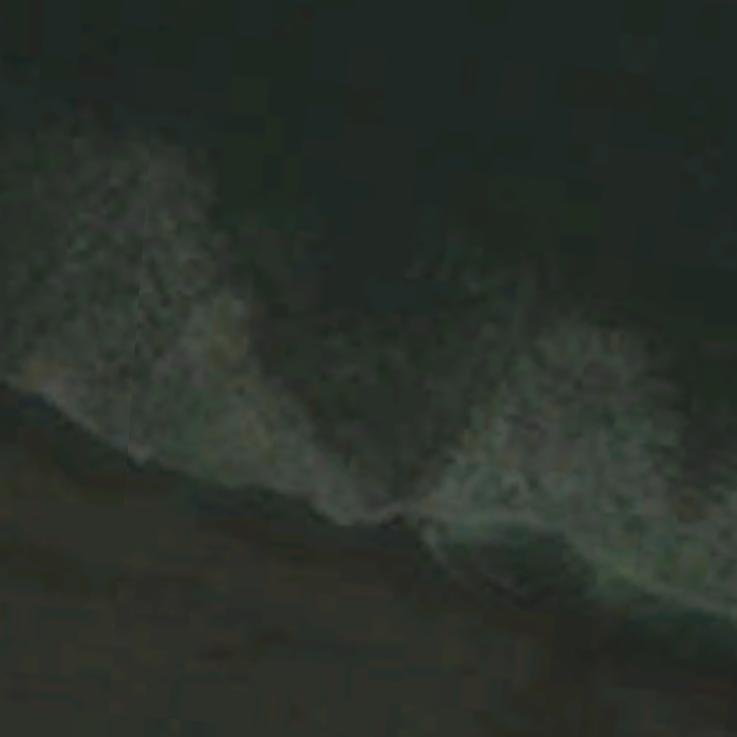rip_current: (222, 169, 505, 530)
